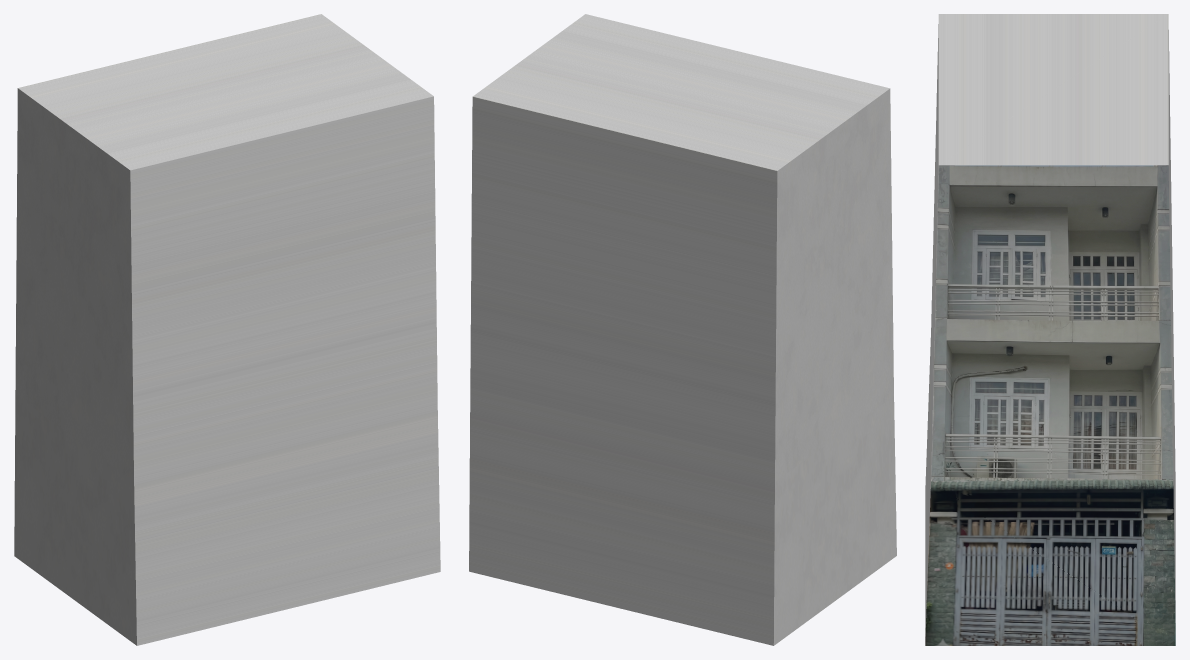
File: RefHouse18.fbx
3 renders of one model, left to right at view 1: azimuth 30°, elevation 25°; view 2: azimuth 150°, elevation 25°; view 3: azimuth 270°, elevation 25°, orthographic. The views are drawn at different scales.
Visible parts, largest first — view 1: ReferenceHouse18; view 2: ReferenceHouse18; view 3: ReferenceHouse18.
Boxes of the visible parts, x1,y1,x2,y2 form: ReferenceHouse18: (14,14,440,645); ReferenceHouse18: (469,14,896,645); ReferenceHouse18: (925,14,1175,645).
Bounding box in the file's own units: 969 × 1435 × 678.
2 materials, 2 textured.
